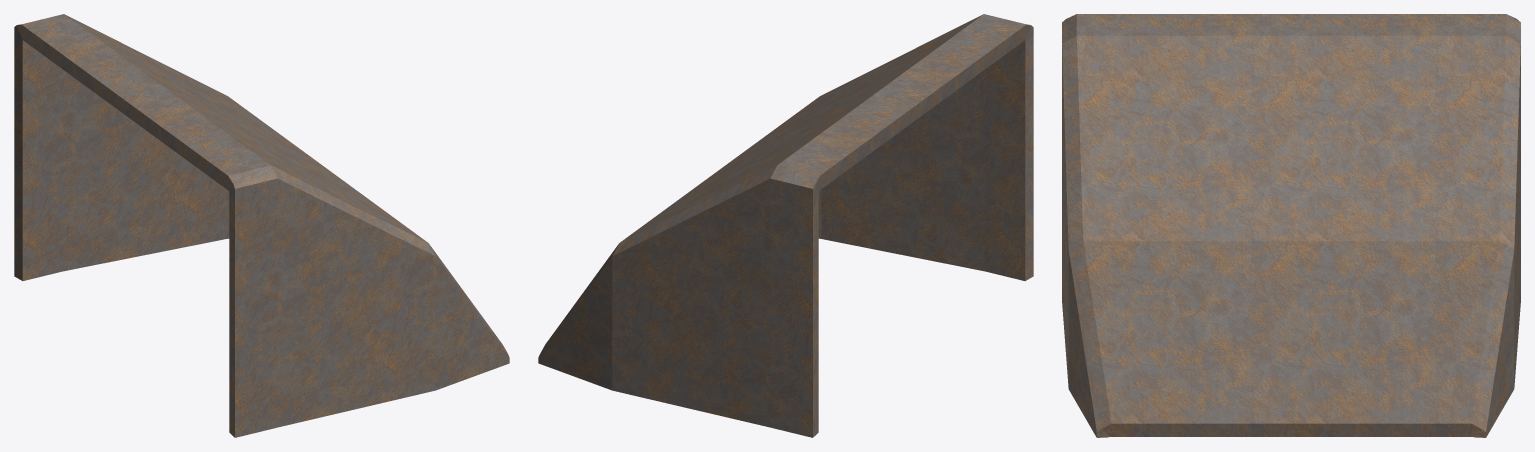
The model's file is basement_door_cover.glb.
3 views of the same model, side by side, from view 1: azimuth 30°, elevation 25°; view 2: azimuth 150°, elevation 25°; view 3: azimuth 270°, elevation 25° (orthographic). The views are drawn at different scales.
Visible parts, largest first — view 1: Cover -col; view 2: Cover -col; view 3: Cover -col.
Boxes of the visible parts, <box> form: Cover -col: <box>14,14,509,437</box>; Cover -col: <box>538,14,1033,437</box>; Cover -col: <box>1062,14,1520,437</box>.
Size of the model in its own units: 3.7 by 3.22 by 4.85.
Materials: 1 (1 with a texture image).
